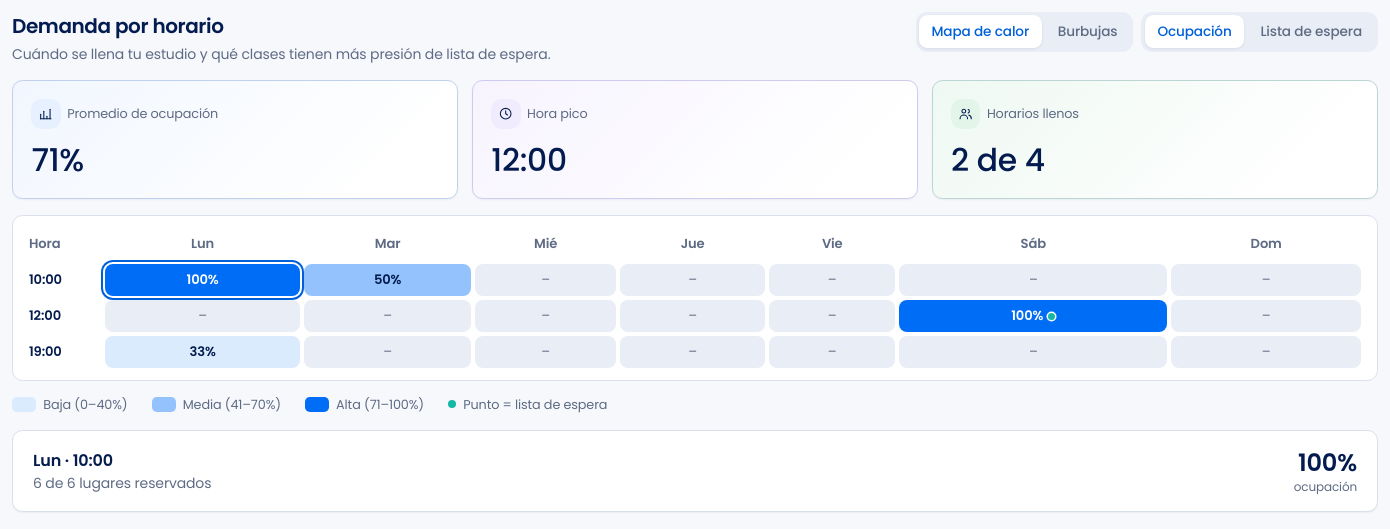
Test case: Demanda por horario › el detalle muestra el horario más alto y el que se toca
Click the 2nd button "100%" at (1033, 316), box [899, 300, 1167, 332]
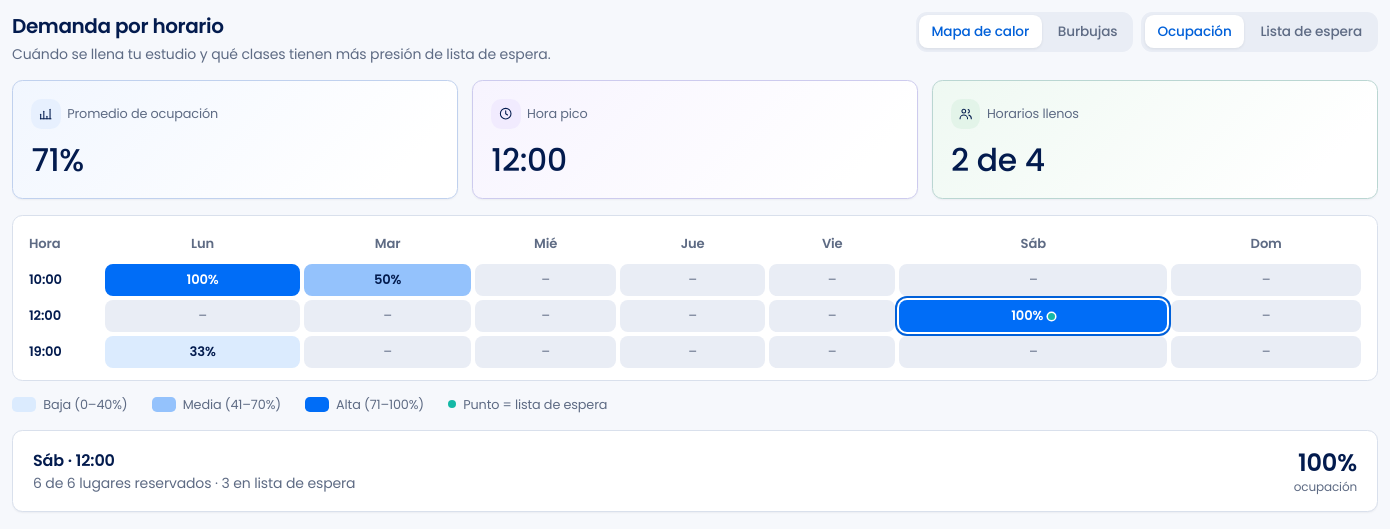
Result: the element that starts with "Sáb · 12:00" is shown at [33, 449, 115, 472]
Result: the element that starts with "Sáb · 12:00" shows "3 en lista de espera" at [211, 473, 356, 493]
